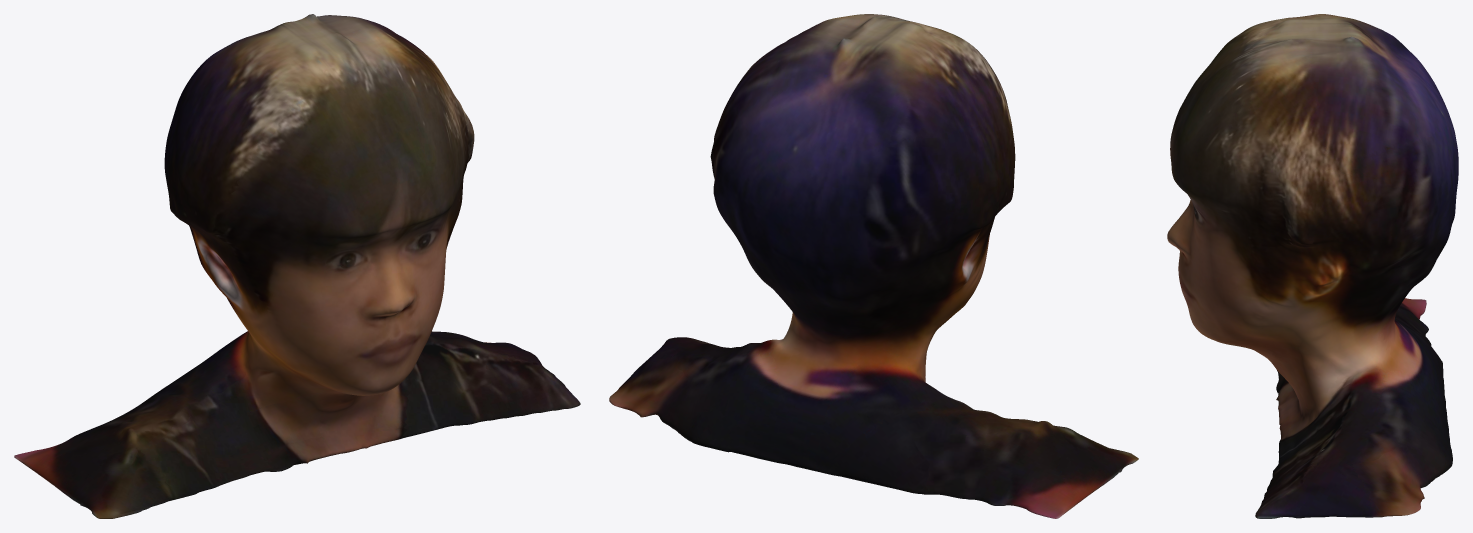
File: shawneyelevel2.glb
3 views of the same model, side by side, from view 1: azimuth 30°, elevation 25°; view 2: azimuth 150°, elevation 25°; view 3: azimuth 270°, elevation 25° (orthographic). The views are drawn at different scales.
Visible parts, largest first — view 1: tripo_node_36b07bba-8086-48aa-bc8c-7825d3e9f536; view 2: tripo_node_36b07bba-8086-48aa-bc8c-7825d3e9f536; view 3: tripo_node_36b07bba-8086-48aa-bc8c-7825d3e9f536.
Part boxes in pixels (x1,y1,x2,y2): tripo_node_36b07bba-8086-48aa-bc8c-7825d3e9f536: [14, 14, 580, 518]; tripo_node_36b07bba-8086-48aa-bc8c-7825d3e9f536: [609, 14, 1138, 518]; tripo_node_36b07bba-8086-48aa-bc8c-7825d3e9f536: [1167, 14, 1458, 518].
Size of the model in its own units: 7.71 by 6.31 by 4.32.
1 material, 1 textured.
